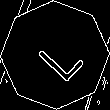L_NW: (26, 27, 84, 83)
